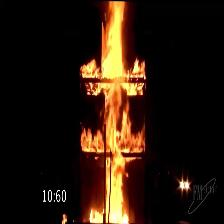fire: (85, 4, 141, 106), (82, 109, 150, 169), (102, 177, 137, 224)
